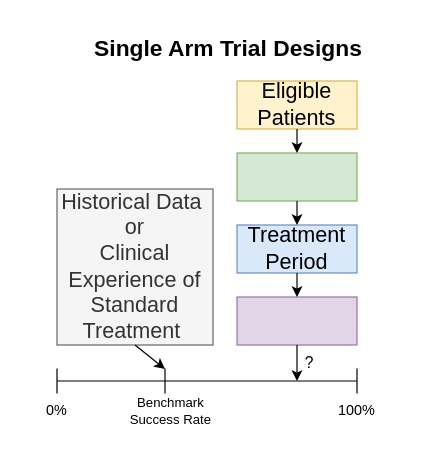
Image size: 440x449. Some labels were removed from this diagram. Here are the shapes that lost their labels. From the top down, the box of each, then its label:
(236, 152, 357, 201): New Treatment
(236, 296, 357, 345): Success Rate
